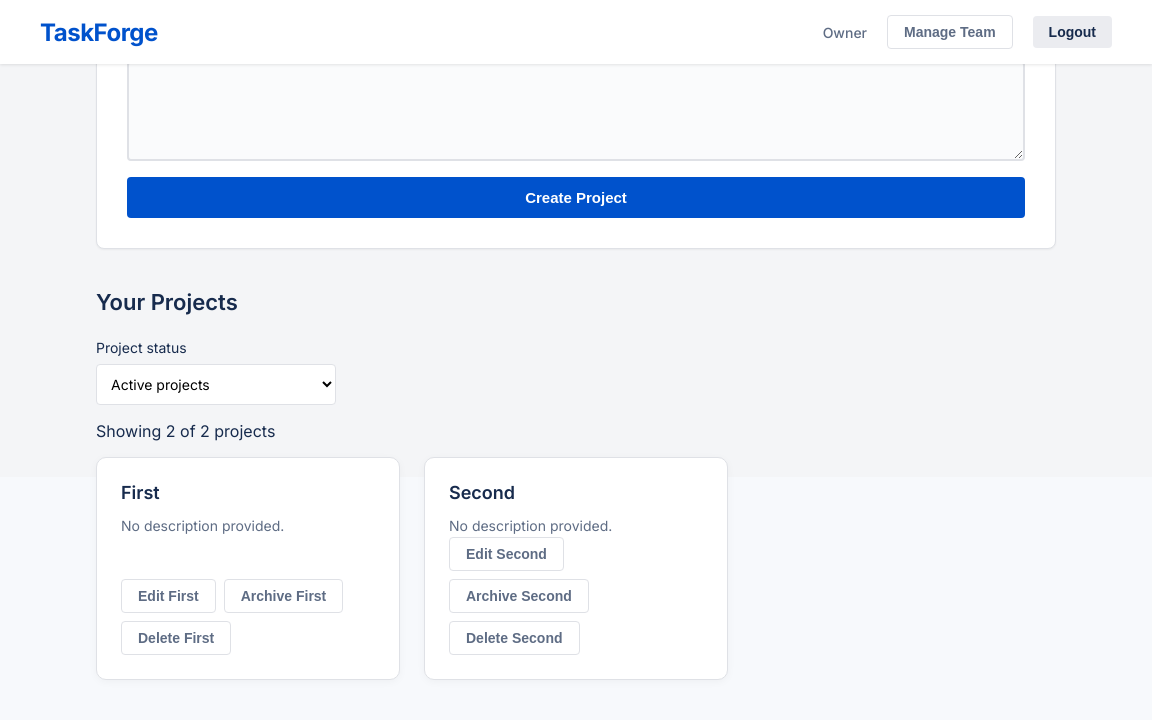
it: ignores the first response after leaving and reopening the same project
(page scrolled)
Click the button with aria-label "Open First" at (140, 492), box [121,482,160,503]
(page scrolled)
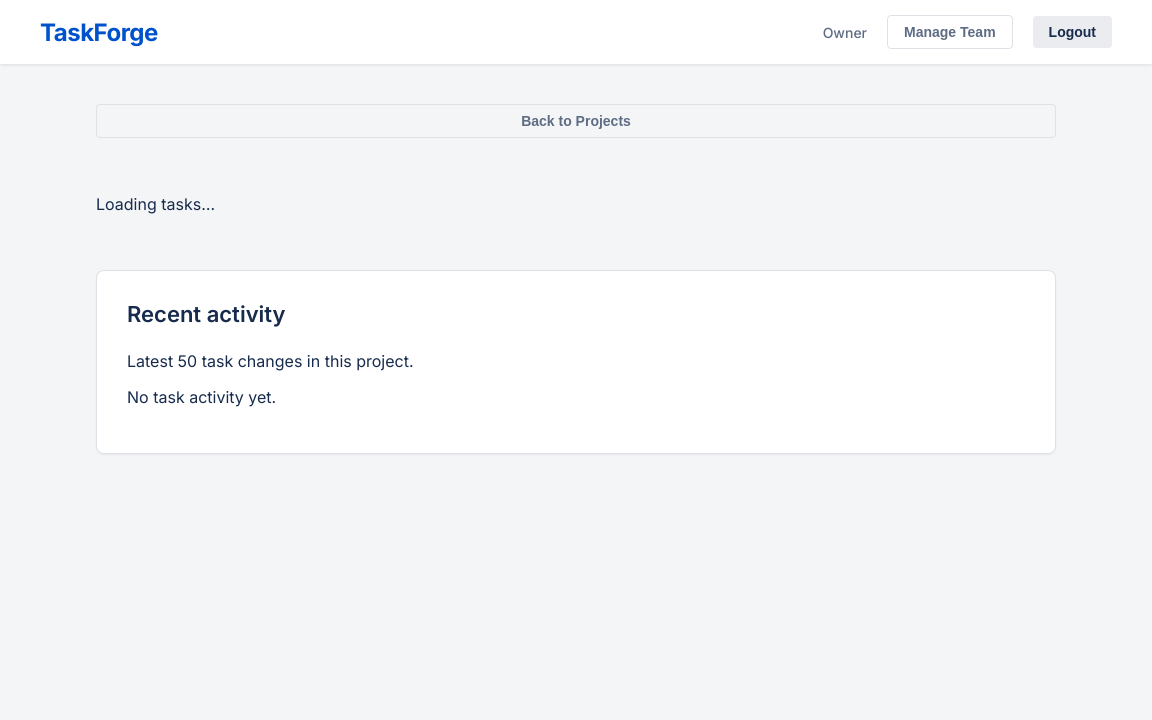
Click the button "Back to Projects" at (576, 121), box [96,104,1056,138]
(page scrolled)
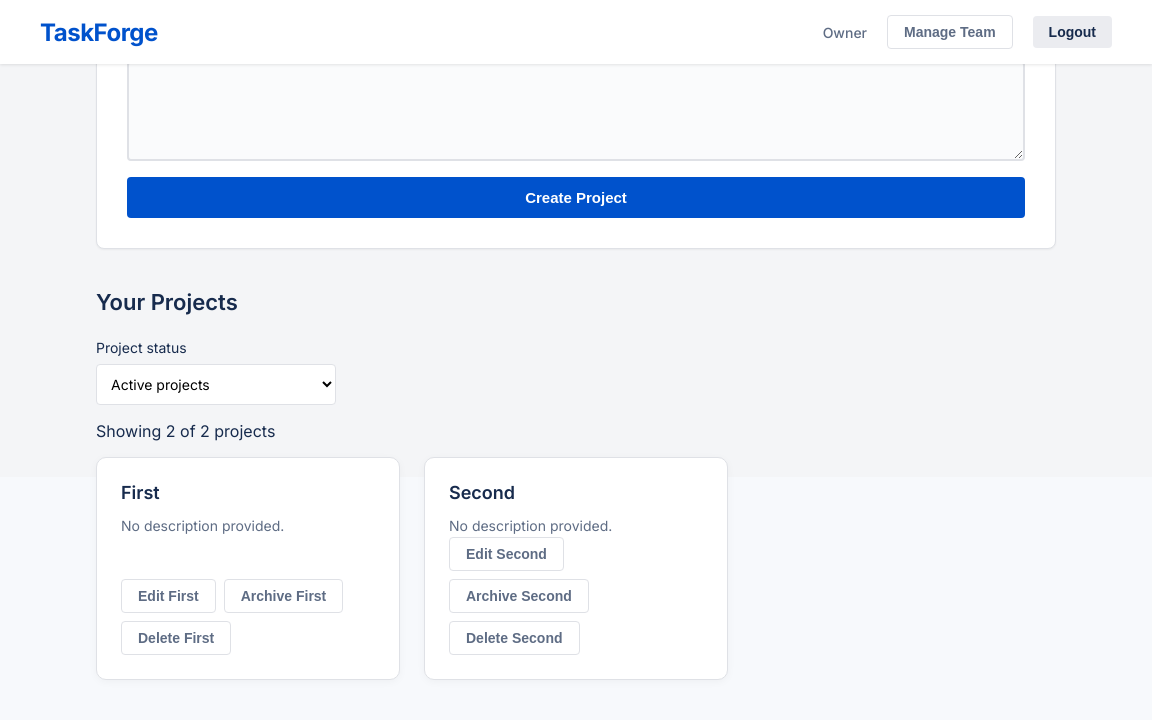
Click the button with aria-label "Open First" at (140, 492), box [121,482,160,503]
(page scrolled)
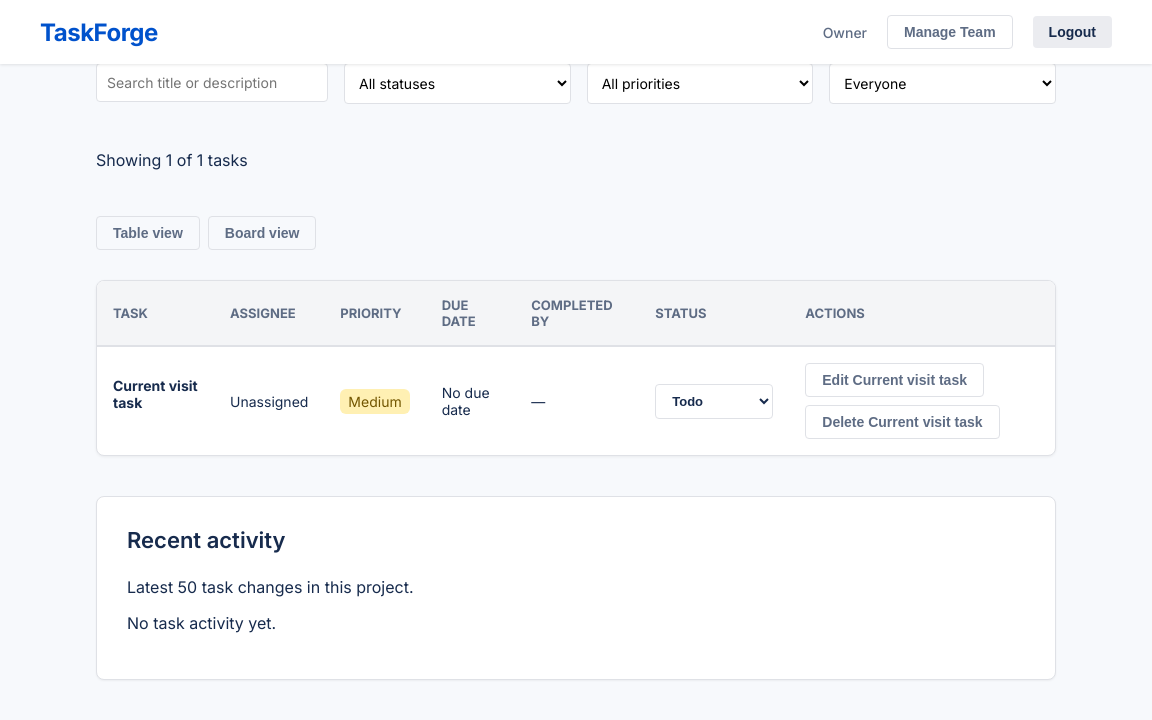
Check: the text "Current visit task" is shown, box [113,377,198,411]
